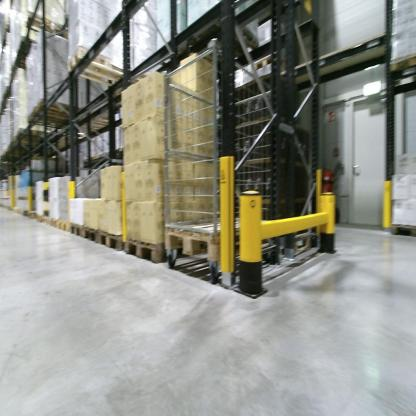pallet: (163, 216, 276, 262), (188, 12, 259, 78), (159, 32, 234, 86), (66, 45, 141, 87), (124, 237, 212, 267), (274, 225, 325, 264), (26, 10, 70, 38), (27, 105, 69, 132), (35, 97, 72, 126), (252, 52, 287, 79), (98, 226, 126, 252), (83, 225, 100, 245), (69, 221, 84, 241), (58, 219, 70, 235), (110, 145, 120, 155)
